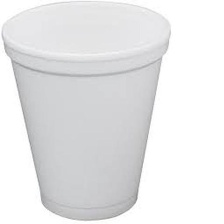paper_cup: (0, 0, 175, 224)
